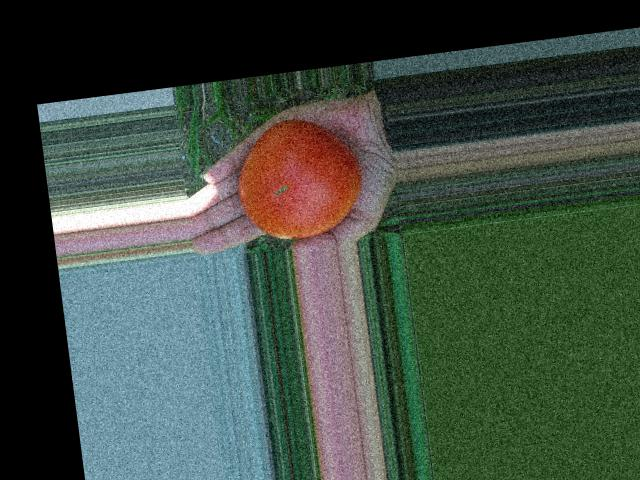tomato: (230, 111, 366, 245)
